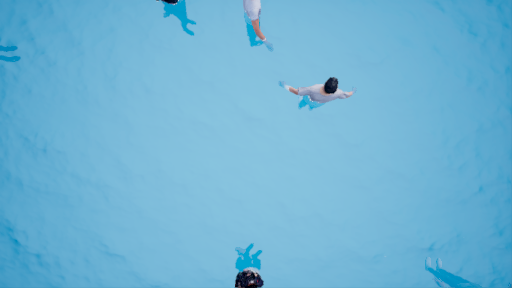person: (282, 74, 355, 116), (238, 1, 278, 51)
